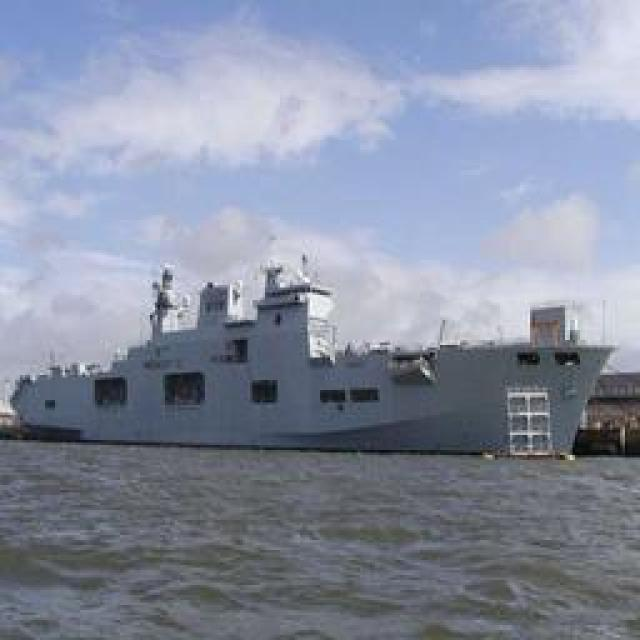CIV_Ship: (15, 242, 615, 456)
